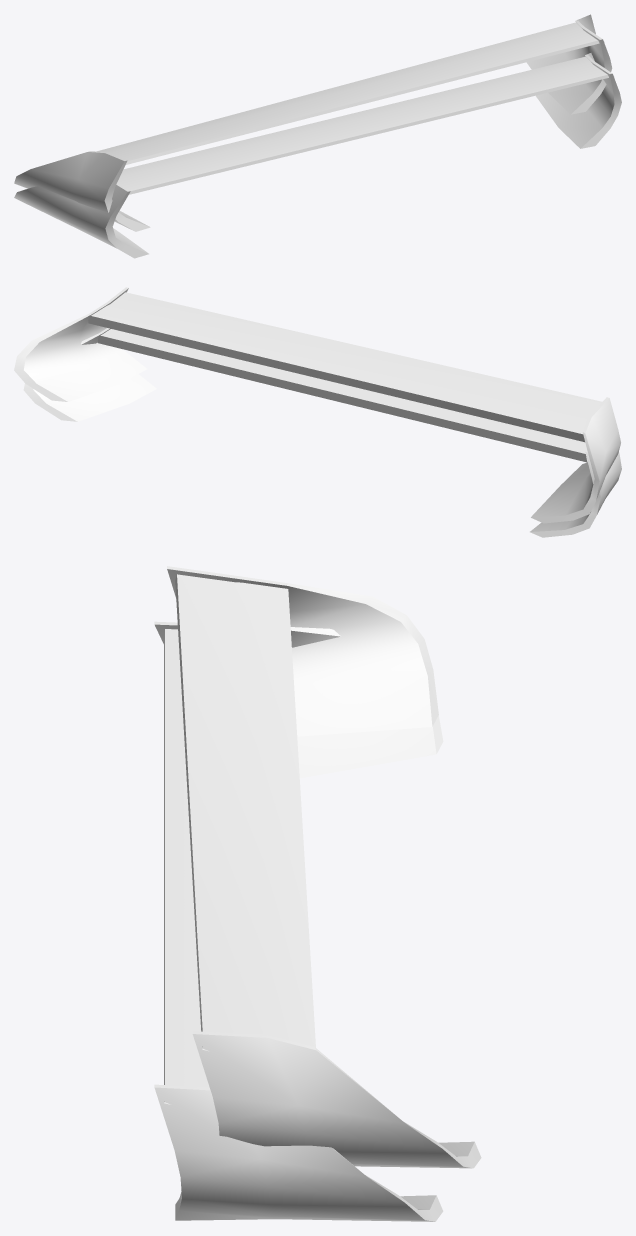
File: spl_a_j_b.glb
The picture shows the model from 3 angles, top to bottom: view 1: azimuth 30°, elevation 25°; view 2: azimuth 150°, elevation 25°; view 3: azimuth 270°, elevation 25°; orthographic projection. The views are drawn at different scales.
Parts seen in each view (by area): view 1: spl_a_j_b, spl_a_j_b_dam; view 2: spl_a_j_b_dam, spl_a_j_b; view 3: spl_a_j_b_dam, spl_a_j_b.
Boxes of the visible parts, bbox=[...] form: spl_a_j_b: bbox=[14, 53, 621, 258]; spl_a_j_b_dam: bbox=[14, 14, 612, 231]; spl_a_j_b_dam: bbox=[14, 287, 620, 523]; spl_a_j_b: bbox=[23, 328, 621, 537]; spl_a_j_b_dam: bbox=[167, 566, 481, 1168]; spl_a_j_b: bbox=[154, 621, 443, 1221].
Bounding box in the file's own units: 2.12 × 0.3555 × 0.5261.
Materials: 1 (1 with a texture image).
